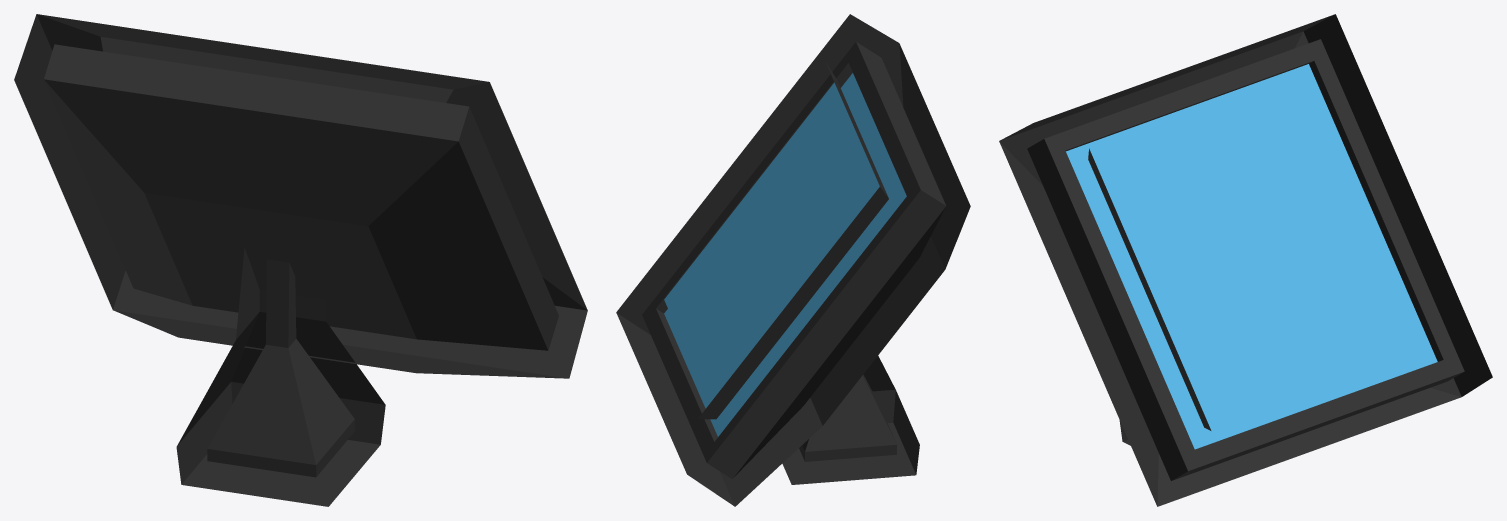
File: computer with normals and empty.fbx
The picture shows the model from 3 angles, left to right: view 1: azimuth 30°, elevation 25°; view 2: azimuth 150°, elevation 25°; view 3: azimuth 270°, elevation 25°; orthographic projection. The views are drawn at different scales.
Visible parts, largest first — view 1: Computer, Computer.001; view 2: Computer.001, Computer; view 3: Computer.001, Computer.
Boxes of the visible parts, x1=… form: Computer: x1=44, y1=44, x2=558, y2=477; Computer.001: x1=14, y1=14, x2=587, y2=506; Computer.001: x1=616, y1=14, x2=970, y2=506; Computer: x1=642, y1=42, x2=946, y2=478; Computer.001: x1=999, y1=14, x2=1492, y2=506; Computer: x1=1027, y1=39, x2=1464, y2=480.
Size of the model in its own units: 71.66 by 59.37 by 73.41.
